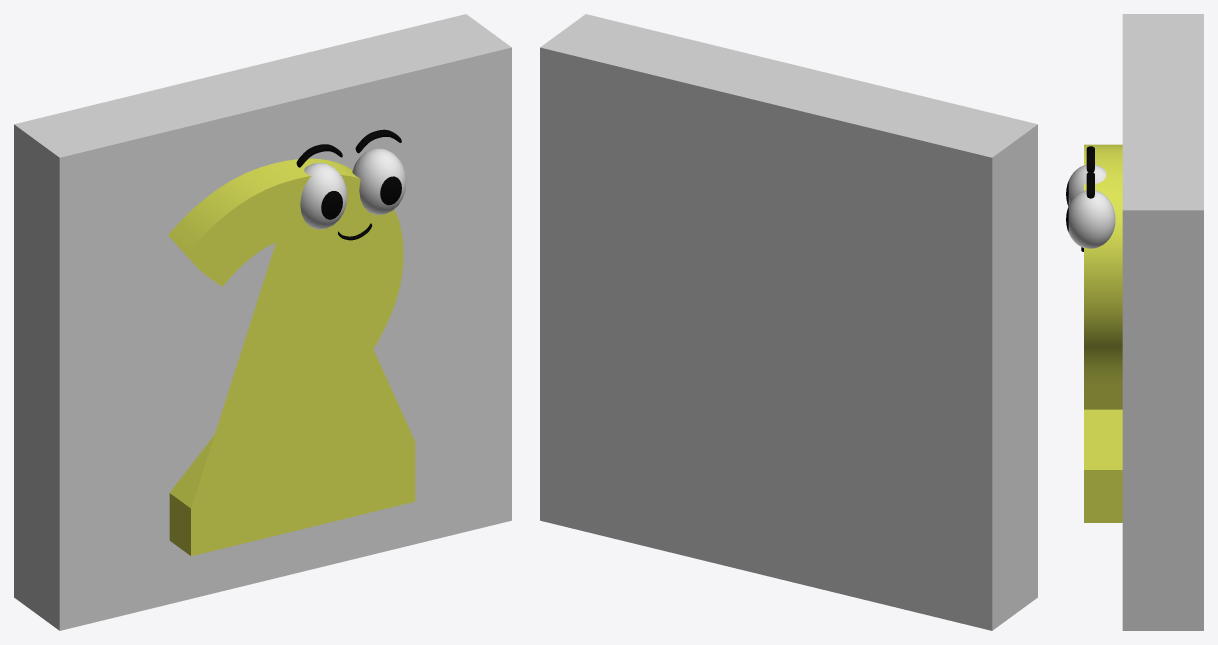
Rendered from add1choice1.fbx.
3 views of the same model, side by side, from view 1: azimuth 30°, elevation 25°; view 2: azimuth 150°, elevation 25°; view 3: azimuth 270°, elevation 25° (orthographic). The views are drawn at different scales.
Parts seen in each view (by area): view 1: twoShape3; view 2: twoShape3; view 3: twoShape3.
Boxes of the visible parts, <box> form: twoShape3: <box>14,14,511,630</box>; twoShape3: <box>540,14,1037,630</box>; twoShape3: <box>1066,14,1203,630</box>.
Bounding box in the file's own units: 6 × 6 × 1.78.
